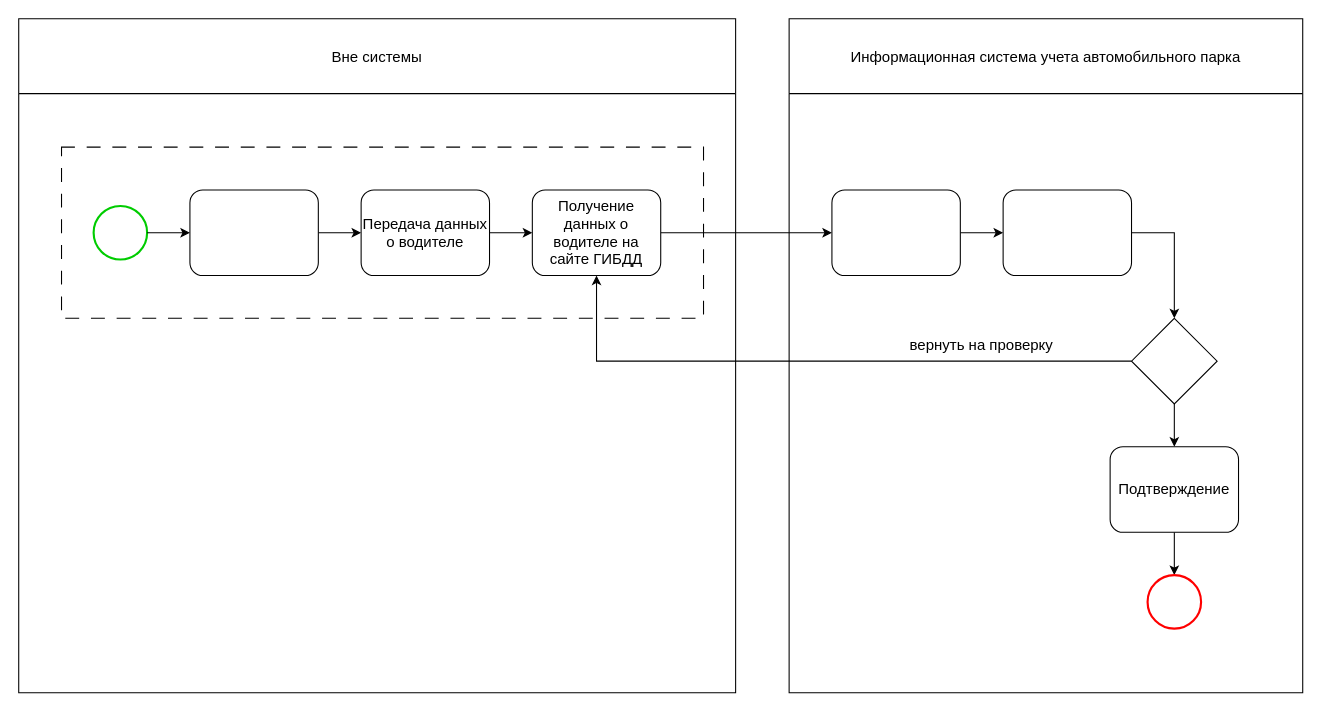
Some shapes in this 1321 by 712 pixel diagram are drawn without their labels. Here are the shapes that lost their labels. From the top down, the box of each, then its label:
(189, 189, 318, 276): Инициация процесса
(831, 189, 960, 276): Ввод данных
(1002, 189, 1132, 276): Уведомление администратора
